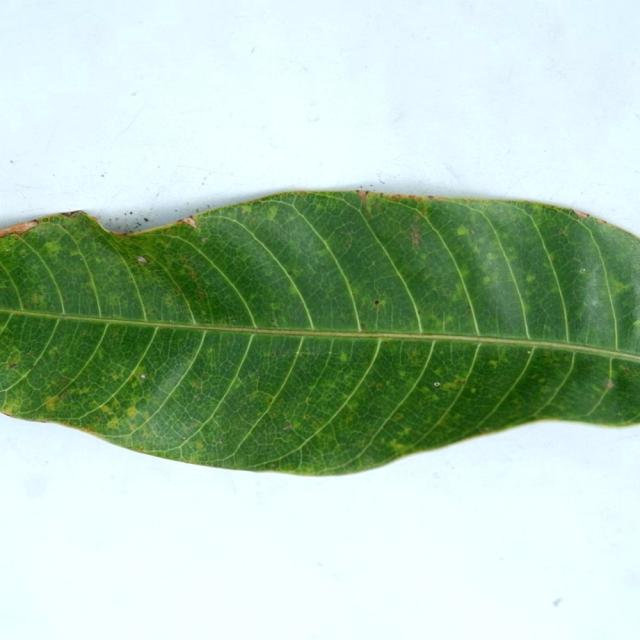Mango: (0, 191, 639, 474)
Powdery_Mildew: (607, 363, 639, 406), (618, 310, 640, 352), (190, 388, 223, 410), (180, 258, 201, 282), (160, 292, 182, 313), (2, 397, 22, 415), (611, 278, 632, 295), (5, 348, 22, 367), (43, 394, 61, 411), (42, 240, 62, 255), (485, 250, 501, 265), (453, 282, 468, 298), (29, 291, 44, 307), (456, 265, 470, 282), (410, 226, 421, 247), (262, 205, 278, 219), (388, 438, 404, 450), (342, 234, 353, 251), (555, 224, 569, 237), (58, 387, 73, 399), (288, 282, 300, 295), (125, 406, 138, 418), (456, 225, 470, 236), (106, 417, 120, 428), (195, 288, 207, 300), (399, 426, 412, 437), (134, 370, 147, 381), (190, 379, 204, 389), (316, 248, 331, 257), (291, 420, 302, 431), (268, 302, 282, 310), (525, 274, 536, 284), (195, 440, 206, 450), (374, 298, 385, 308), (604, 379, 615, 389), (339, 352, 348, 363), (488, 359, 499, 368), (390, 194, 403, 201), (486, 252, 496, 261), (482, 275, 492, 284), (462, 306, 471, 316), (25, 350, 36, 358), (398, 372, 407, 381), (101, 405, 111, 413), (373, 382, 383, 390), (283, 423, 293, 431), (394, 412, 403, 420), (240, 208, 249, 215), (60, 376, 70, 382), (469, 387, 477, 394), (623, 367, 631, 374), (201, 236, 208, 243), (635, 319, 640, 328), (220, 319, 227, 325), (288, 270, 294, 276), (31, 364, 37, 370), (379, 192, 385, 198), (137, 446, 144, 451), (150, 309, 157, 314), (271, 319, 278, 324), (360, 323, 365, 330), (427, 195, 434, 200), (269, 463, 276, 468), (470, 228, 475, 234), (230, 319, 236, 324), (581, 268, 586, 273), (181, 436, 186, 441), (217, 440, 222, 445), (374, 300, 379, 305), (61, 314, 65, 317)
